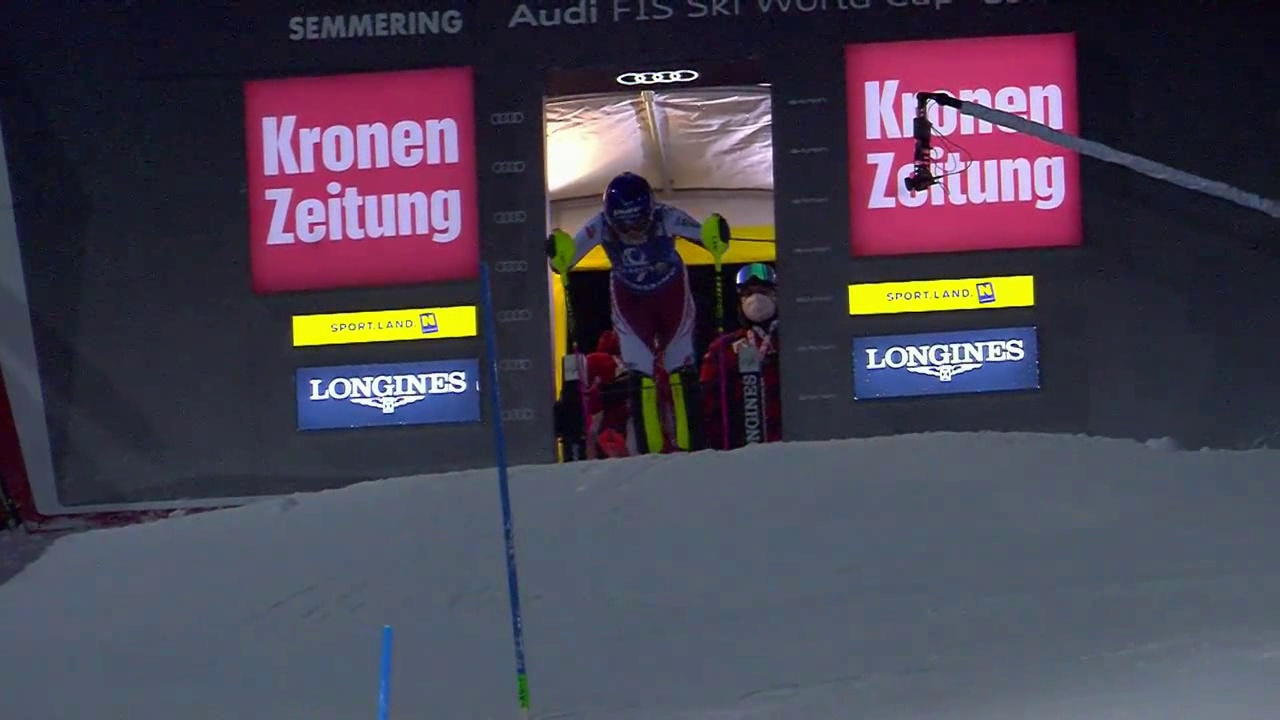audi: (602, 68, 715, 90), (485, 110, 531, 132), (487, 159, 532, 181), (497, 305, 536, 328), (491, 207, 531, 228)
kronenzeitung: (267, 103, 457, 265), (872, 80, 1060, 234)
longines: (287, 366, 486, 426), (855, 335, 1033, 391)
